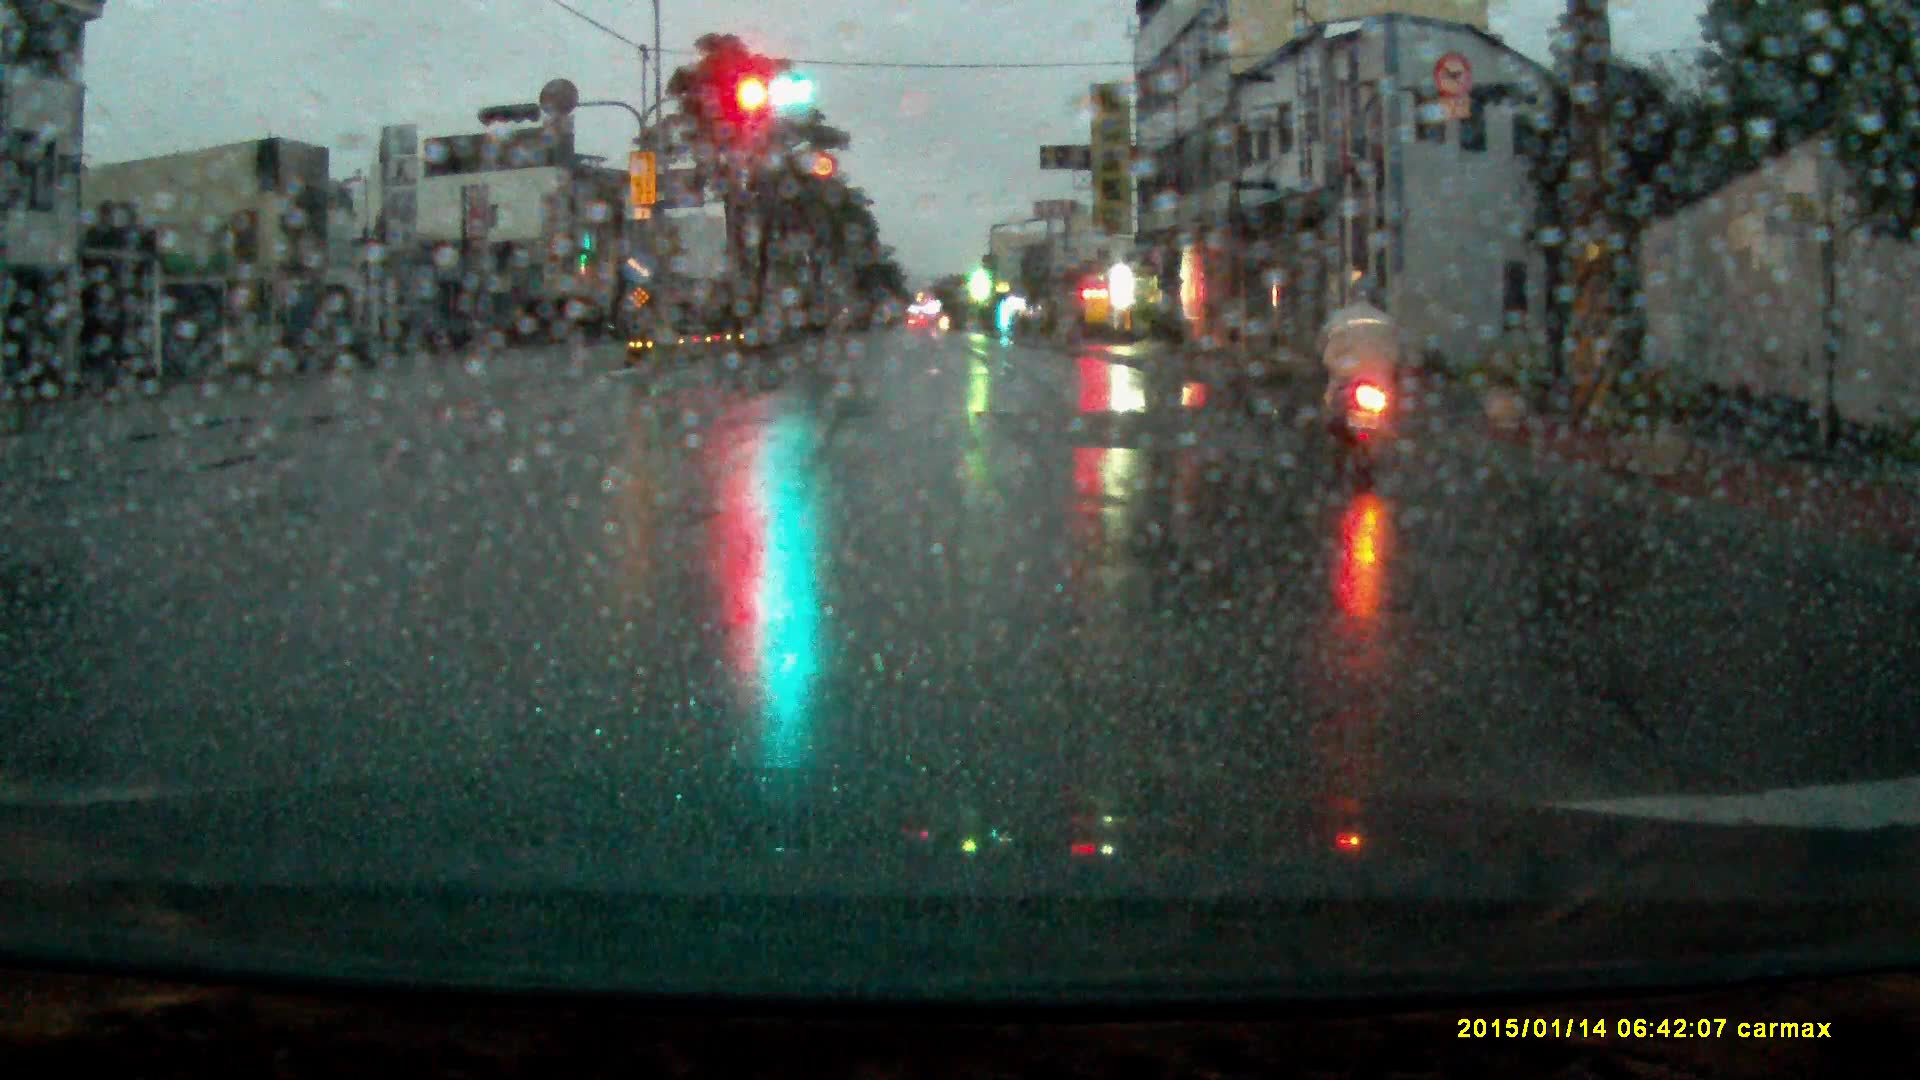rider: (1314, 269, 1398, 493)
